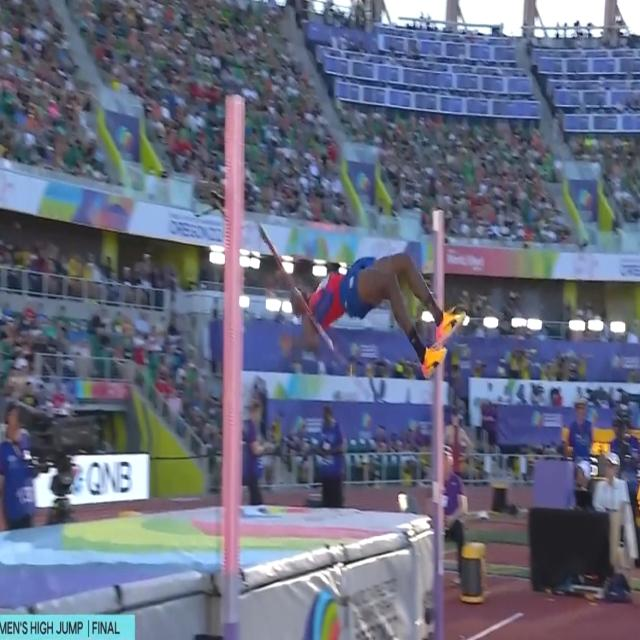jump: (278, 250, 460, 373)
